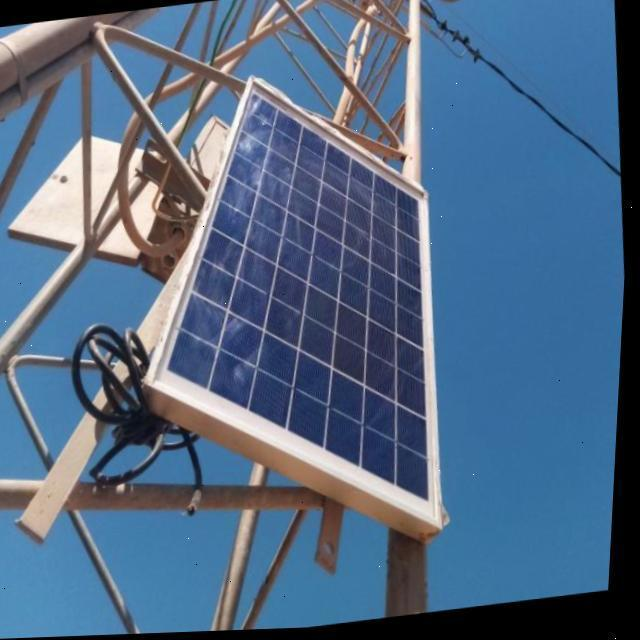Normal Solar Panel: (118, 60, 464, 560)
